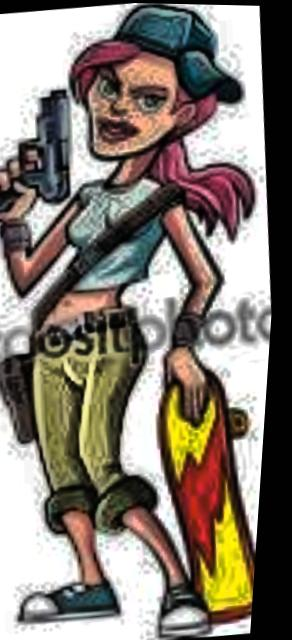pistol: (0, 81, 76, 212)
